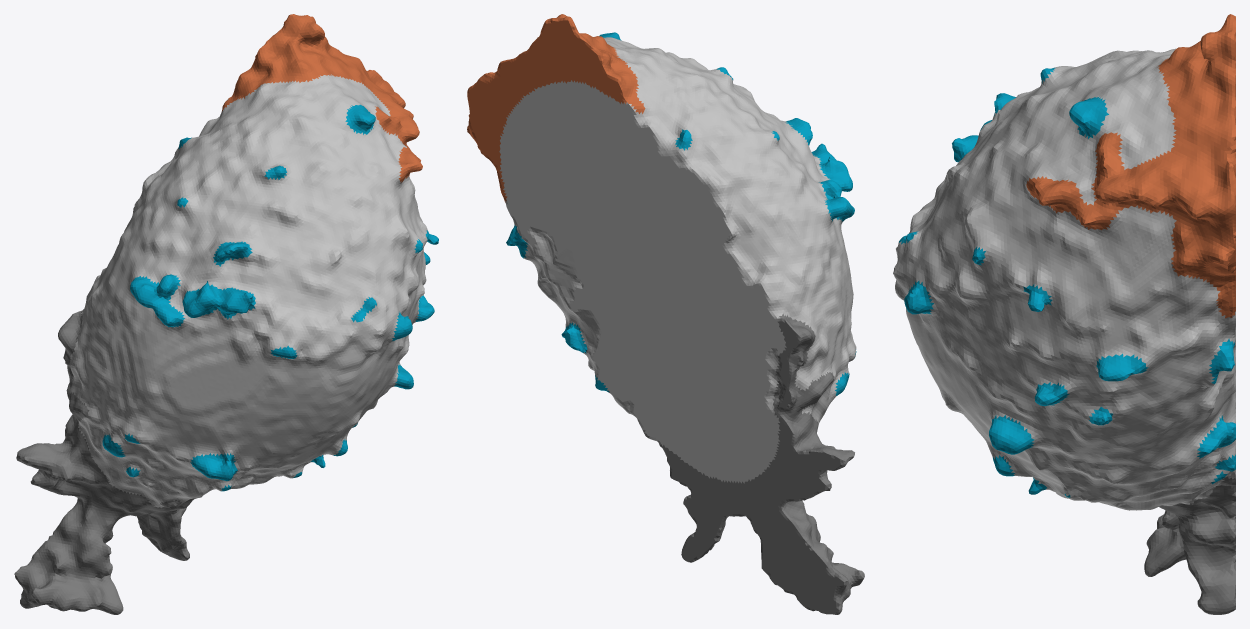
3 renders of one model, left to right at view 1: azimuth 30°, elevation 25°; view 2: azimuth 150°, elevation 25°; view 3: azimuth 270°, elevation 25°, orthographic. The views are drawn at different scales.
Bounding box in the file's own units: 118 × 157 × 70.08.
